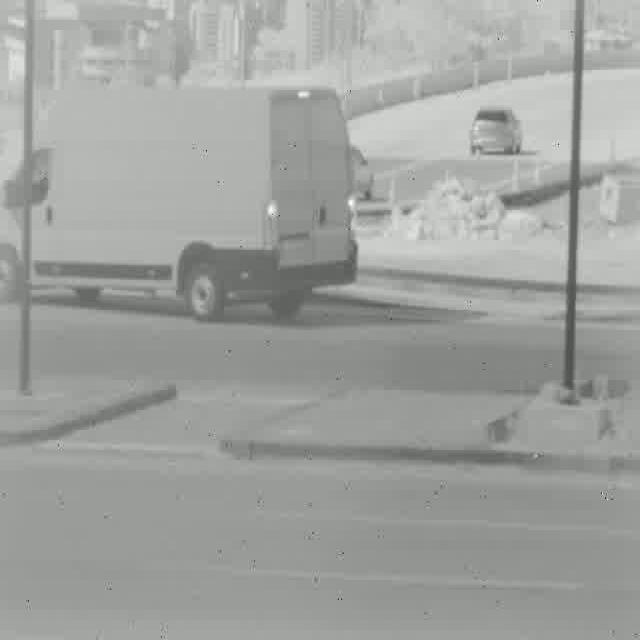Car: (0, 92, 353, 322), (470, 106, 522, 156), (351, 145, 376, 200)
